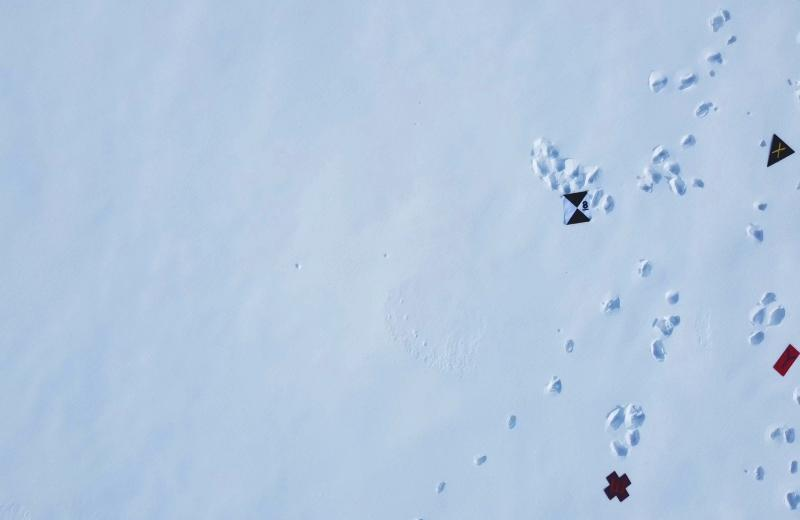Cross: (588, 458, 631, 516)
Rectangle: (756, 332, 800, 395)
Triangle: (761, 122, 800, 187)
